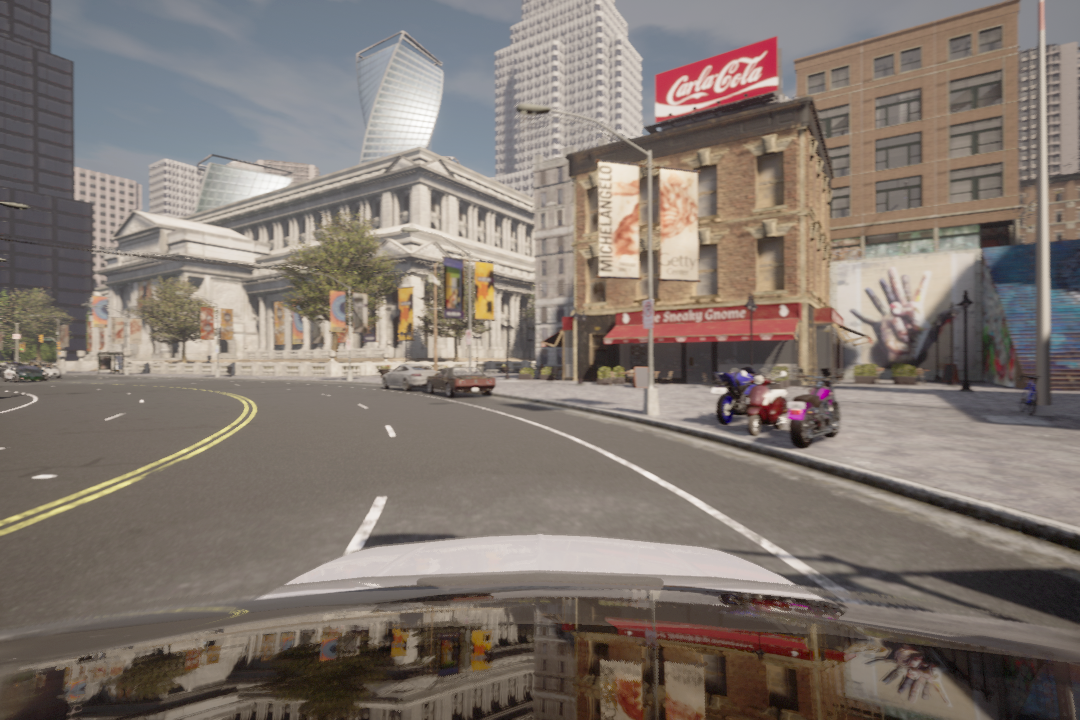TrafficSign_nstop: (641, 297, 655, 329)
